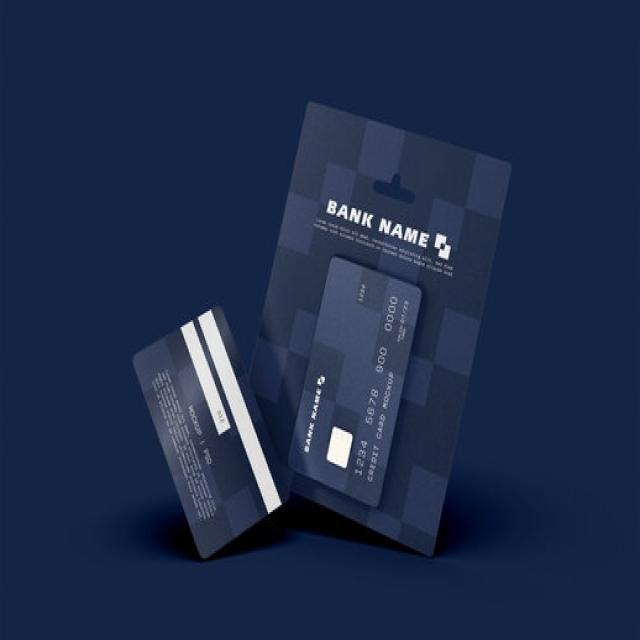payment_card: (130, 303, 289, 560)
